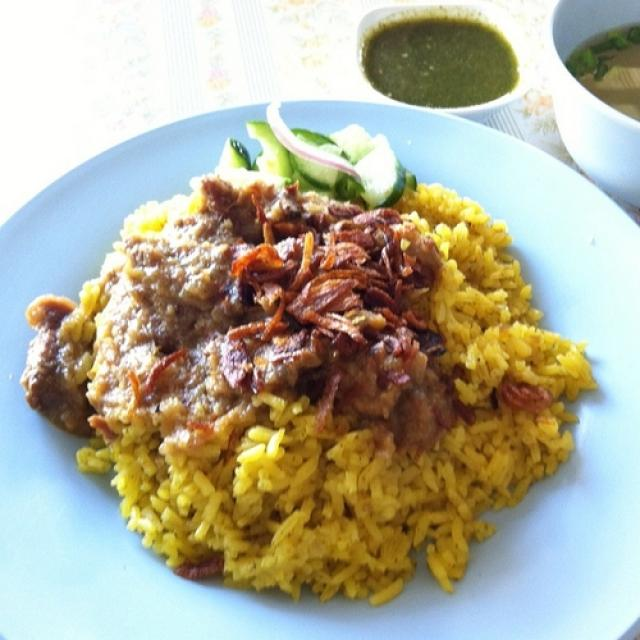米饭主食: (9, 61, 621, 624)
